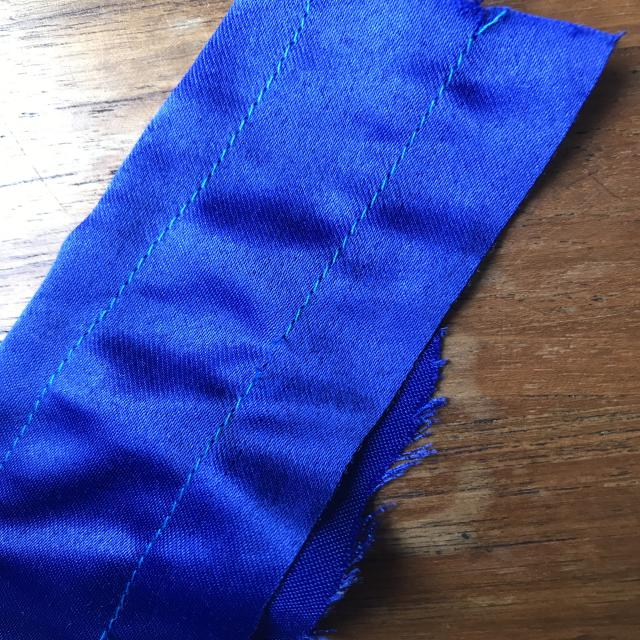broken: (247, 297, 307, 397)
